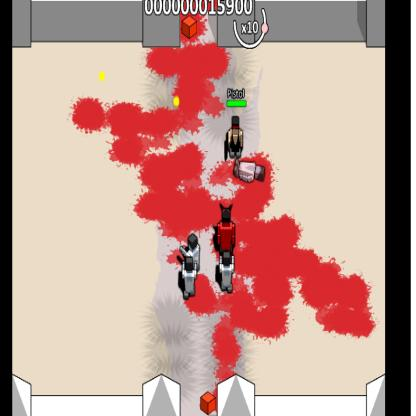agent: (228, 114, 244, 158)
ball: (172, 96, 180, 107), (98, 72, 105, 82)
boss: (216, 205, 237, 248)
jombie: (219, 253, 234, 295), (182, 257, 196, 297), (186, 236, 200, 270)
